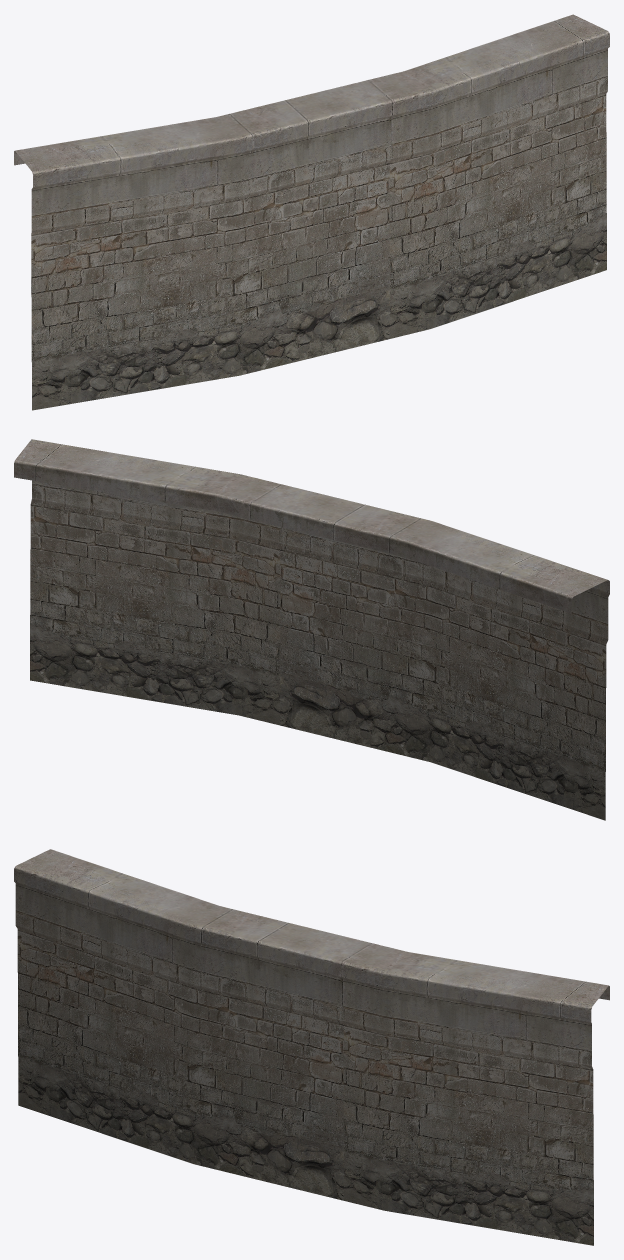
File: Wall7.fbx
3 renders of one model, top to bottom at view 1: azimuth 30°, elevation 25°; view 2: azimuth 150°, elevation 25°; view 3: azimuth 330°, elevation 25°, orthographic.
Visible parts, largest first — view 1: LV_Campagna_Dock_DockWall01_SM_SVR; view 2: LV_Campagna_Dock_DockWall01_SM_SVR; view 3: LV_Campagna_Dock_DockWall01_SM_SVR.
Part boxes in pixels (box(x1,y1,x2,y2)): LV_Campagna_Dock_DockWall01_SM_SVR: box(14, 14, 609, 410); LV_Campagna_Dock_DockWall01_SM_SVR: box(14, 439, 609, 820); LV_Campagna_Dock_DockWall01_SM_SVR: box(14, 849, 609, 1245).
Size of the model in its own units: 4.83 by 1.92 by 0.6513.
Materials: 1 (1 with a texture image).
